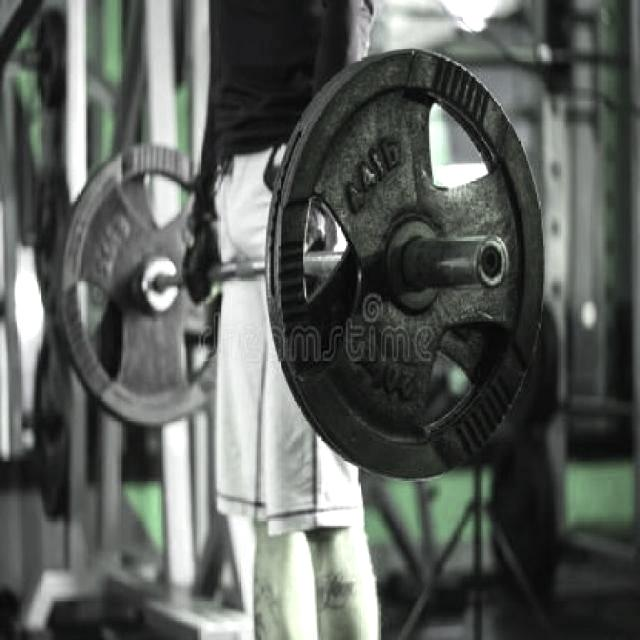barbell: (262, 35, 552, 492)
